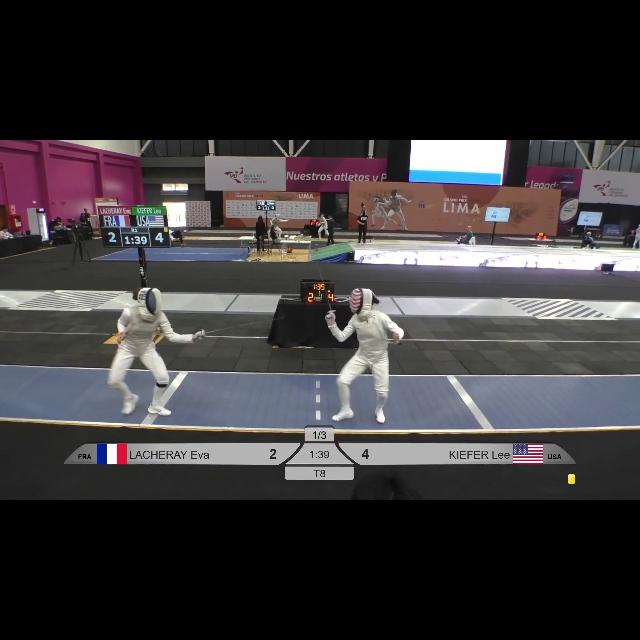blade: (194, 315, 286, 341), (312, 250, 336, 316)
